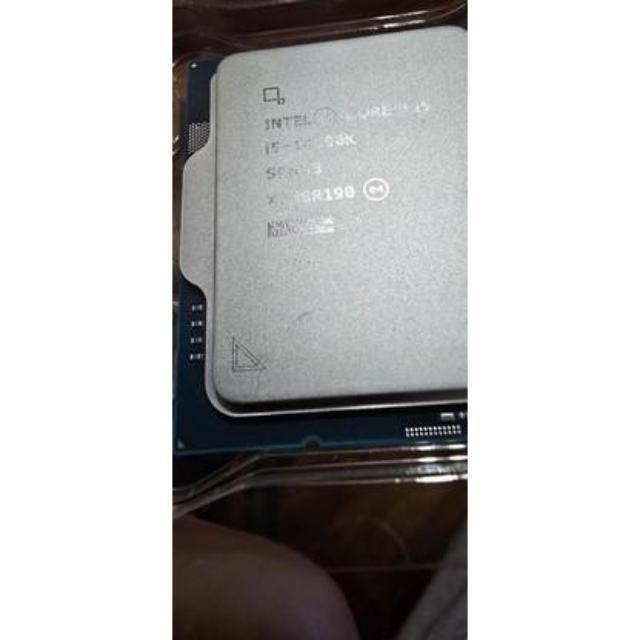CPU: (184, 46, 493, 426)
